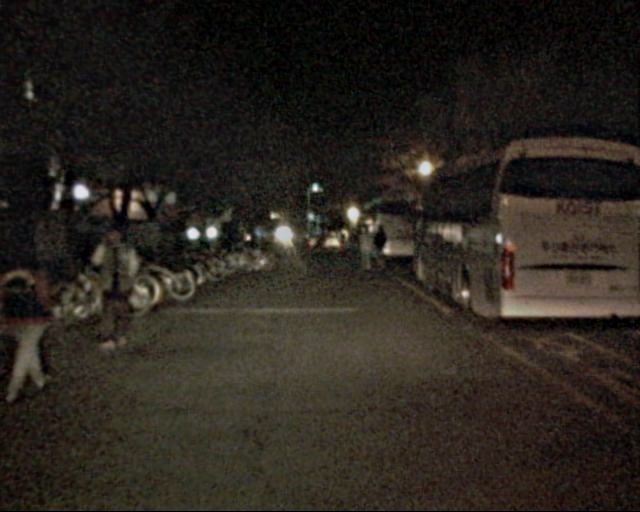person: (91, 222, 141, 344), (371, 229, 389, 273), (358, 228, 375, 270), (348, 230, 362, 263)
